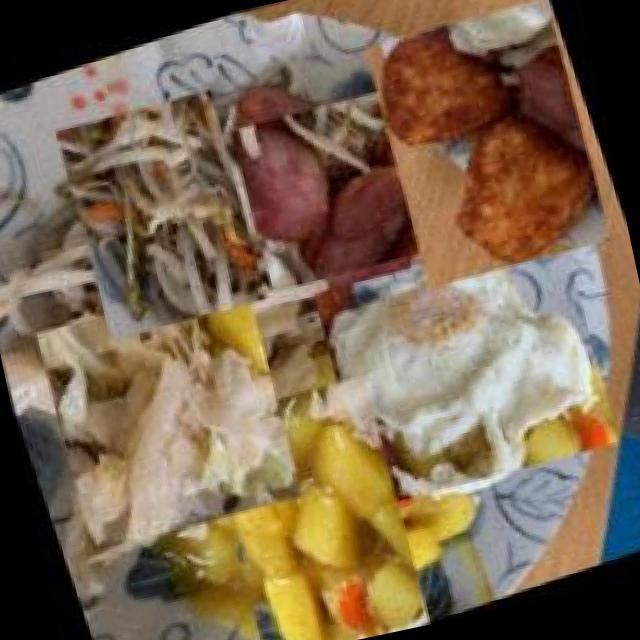chinese_cabbage: (12, 256, 326, 570)
chinese_sausage: (218, 46, 488, 316)
curry: (159, 372, 470, 640)
fried_eggs: (296, 197, 634, 535)
mung_bean_sprouts: (26, 80, 293, 347)
triangle_hash_brown: (339, 0, 631, 305)
